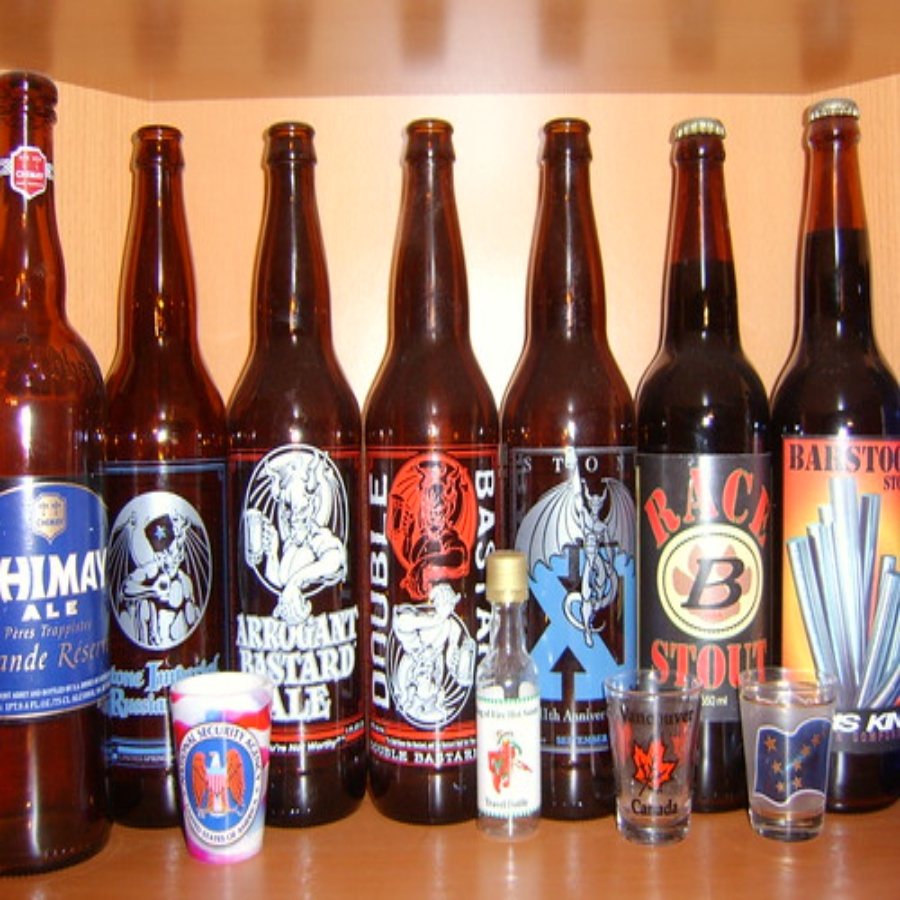beer: (216, 110, 360, 850), (372, 109, 500, 837), (639, 111, 772, 803), (1, 66, 107, 866)
